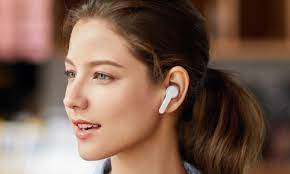earphone: (158, 65, 189, 115)
